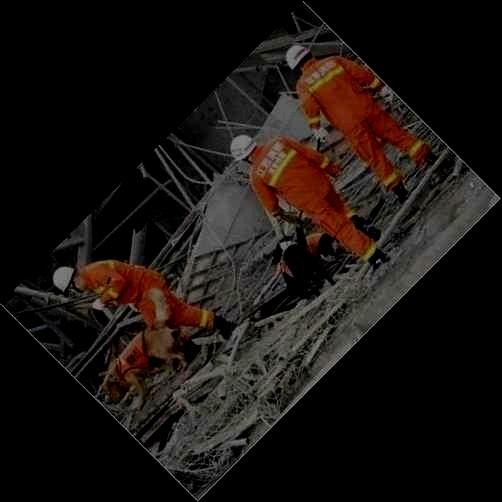helmet: (53, 266, 88, 295), (229, 134, 257, 167), (285, 44, 312, 75)
